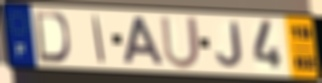4: (252, 18, 287, 75)
A: (122, 15, 167, 67)
D: (33, 10, 72, 64)
I: (91, 13, 107, 65)
J: (214, 21, 245, 69)
U: (159, 14, 203, 71)
